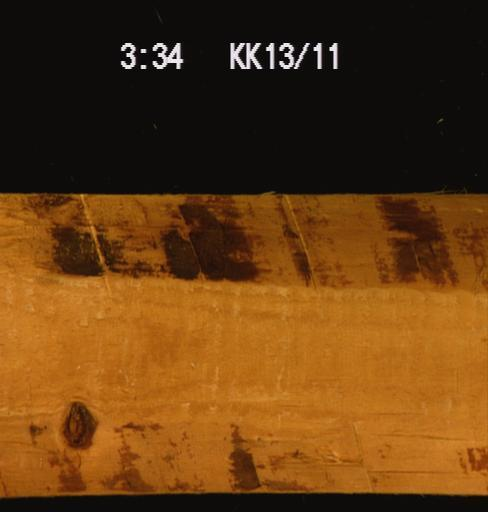wave: (0, 191, 487, 298), (0, 408, 486, 492)
